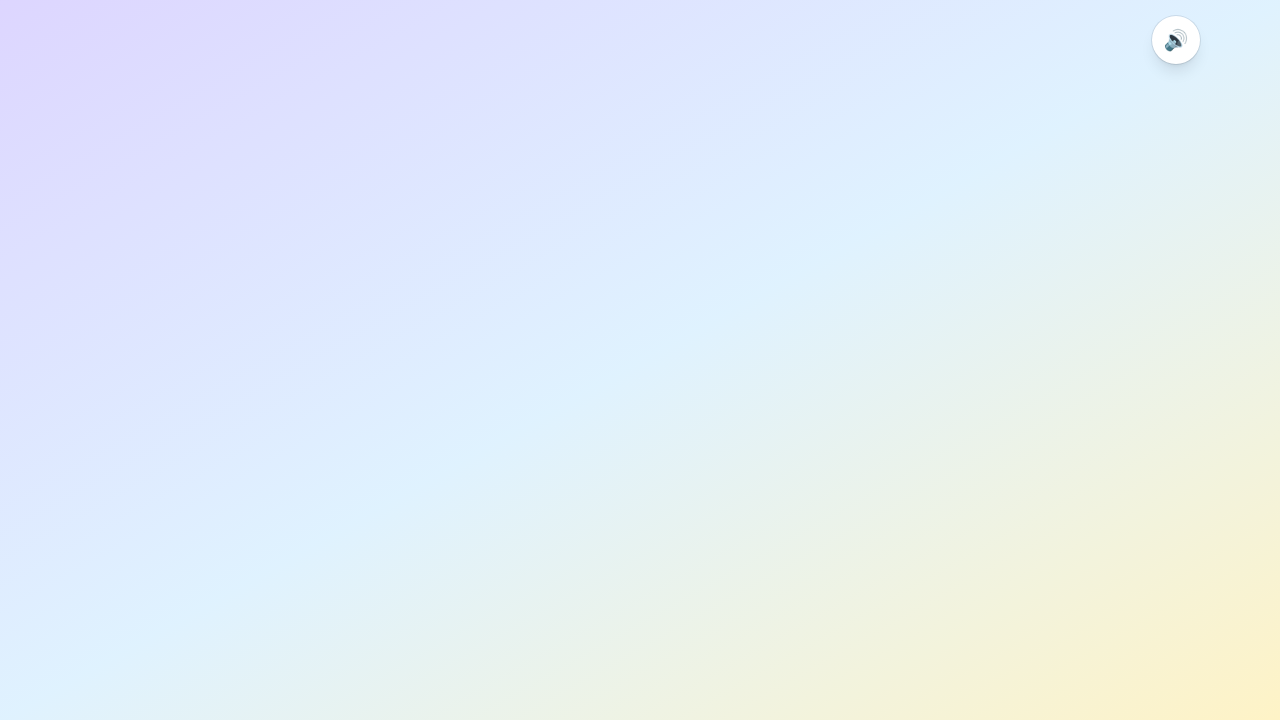
Scenario: toggles mute state and persists it
This screenshot has width=1280, height=720.
What coordinates should you click on to do the following:
click the button
I would click on:
 (1176, 40)
Its box is 1152,16 -> 1200,64.
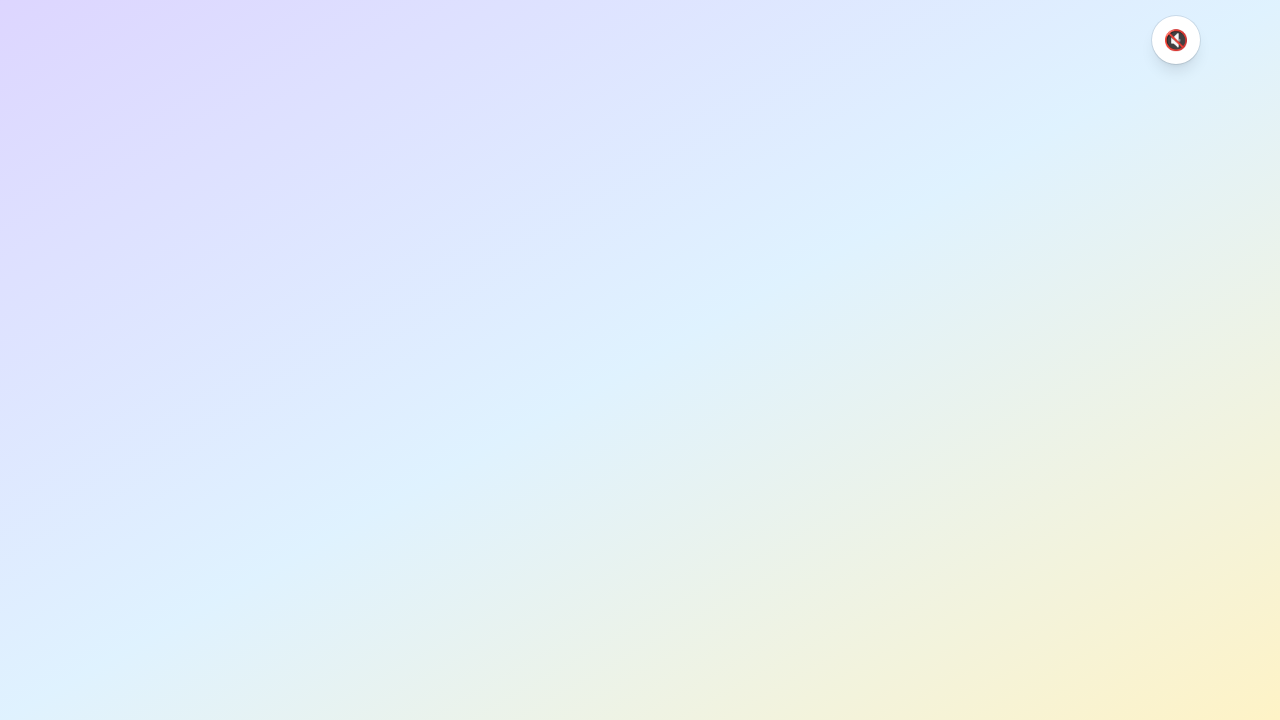
Expected: the button is pressed
What coordinates should you click on to do the following:
click the button
I would click on:
 (1176, 40)
Its box is 1152,16 -> 1200,64.
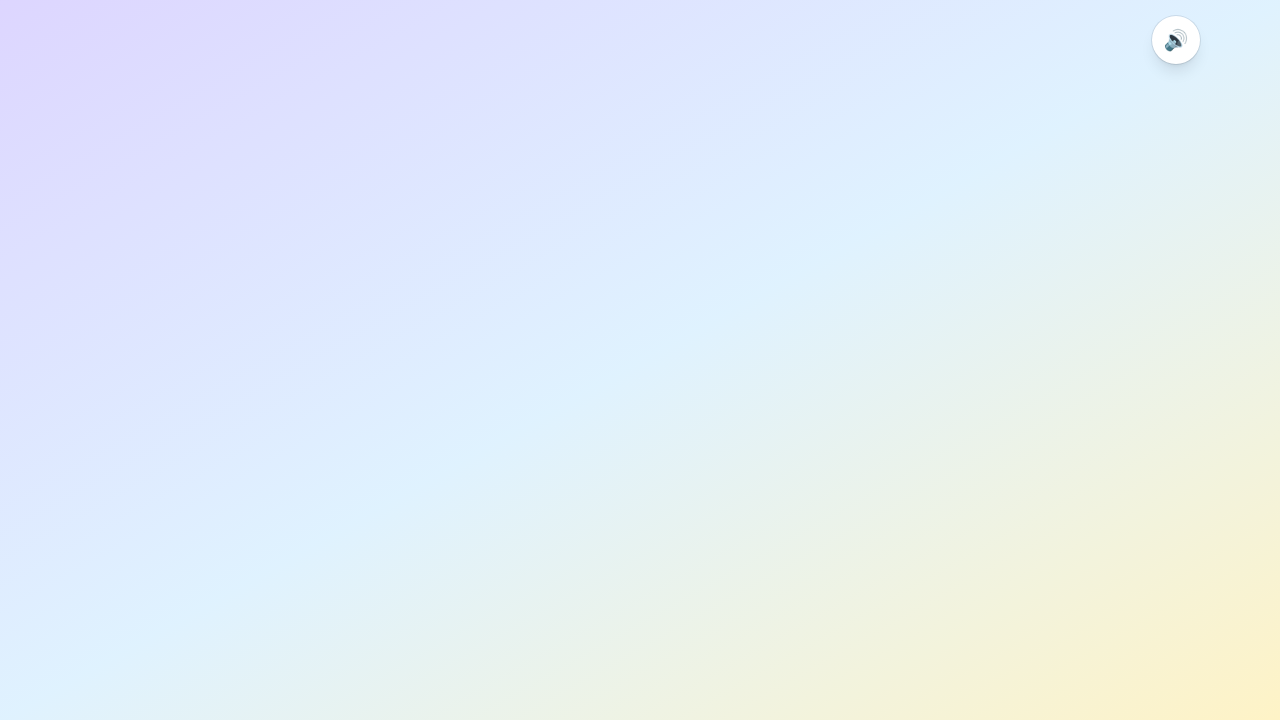
Expected: the button is not pressed, 1152,16 -> 1200,64
